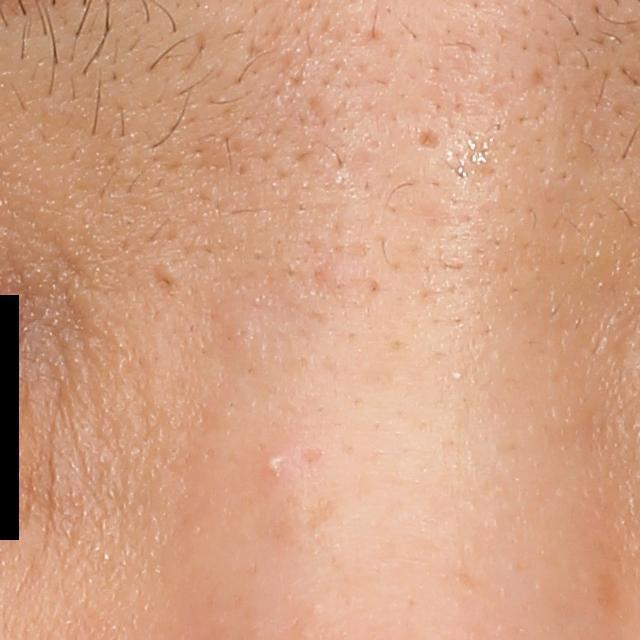atrophic_scar: (152, 261, 180, 296), (417, 128, 446, 150)
